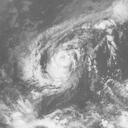cyclone: (18, 42, 84, 94)
